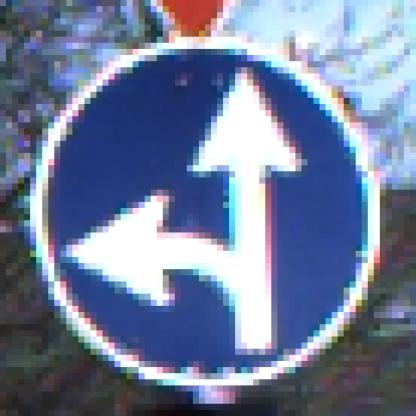Straight or Left: (37, 44, 381, 380)
